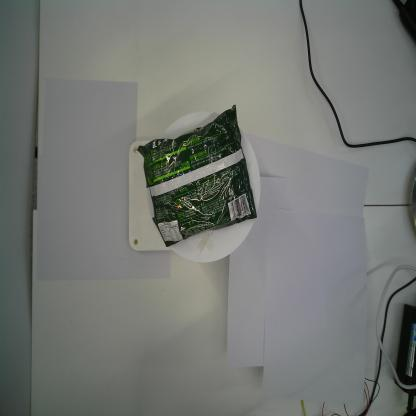Instant Noodles: (137, 105, 258, 248)
